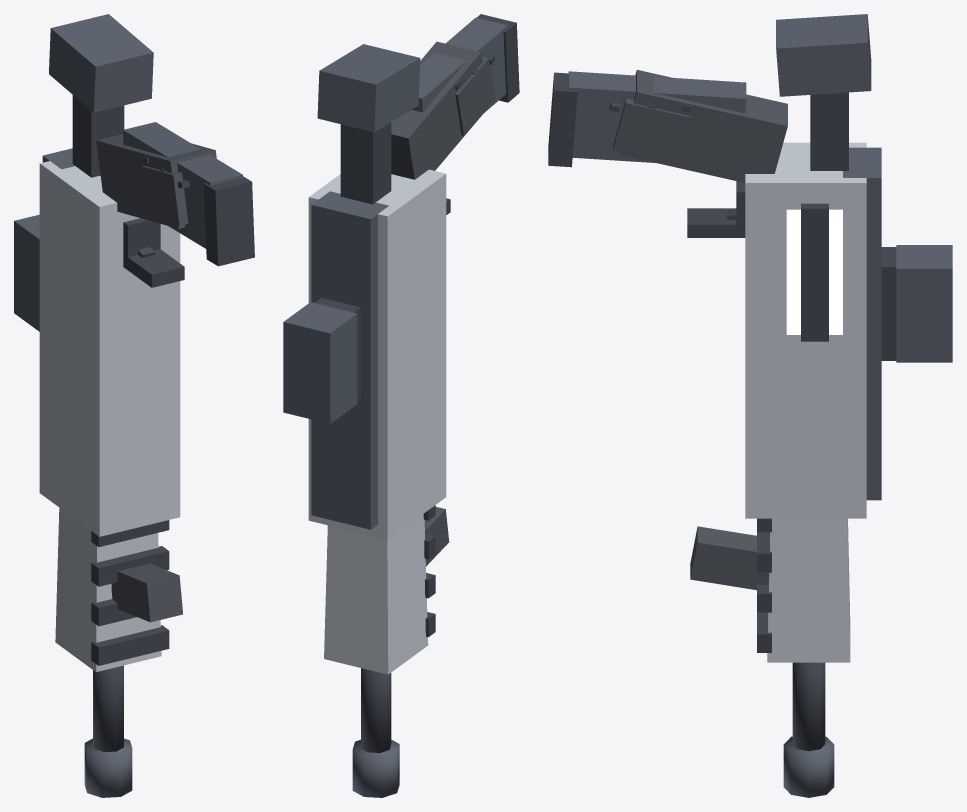
Rendered from wpn_burst_carbine.glb.
The picture shows the model from 3 angles, left to right: view 1: azimuth 30°, elevation 25°; view 2: azimuth 150°, elevation 25°; view 3: azimuth 270°, elevation 25°; orthographic projection. The views are drawn at different scales.
Visible parts, largest first — view 1: wpn_burst_carbine; view 2: wpn_burst_carbine; view 3: wpn_burst_carbine.
Part boxes in pixels (bbox=[...]): wpn_burst_carbine: bbox=[14, 14, 254, 797]; wpn_burst_carbine: bbox=[283, 14, 519, 797]; wpn_burst_carbine: bbox=[548, 14, 952, 797].
Bounding box in the file's own units: 0.0717 × 0.5651 × 0.2729.
